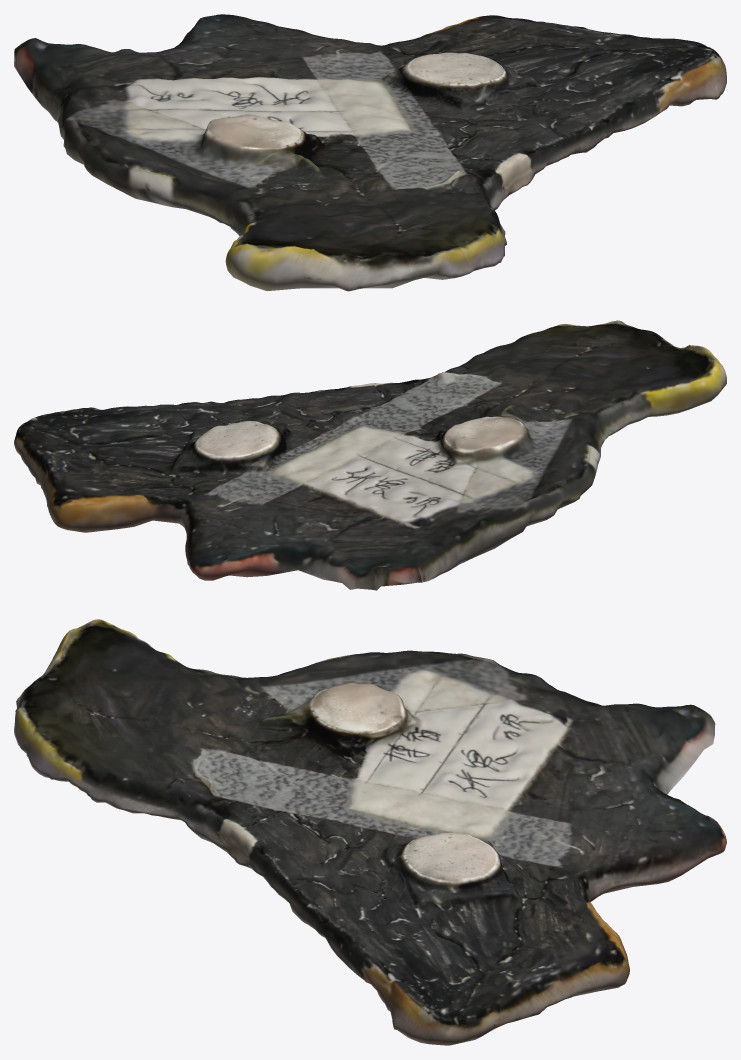
The picture shows the model from 3 angles, top to bottom: view 1: azimuth 30°, elevation 25°; view 2: azimuth 150°, elevation 25°; view 3: azimuth 270°, elevation 25°; orthographic projection. The views are drawn at different scales.
Bounding box in the file's own units: 0.7614 × 0.1429 × 0.7252.
Materials: 1 (1 with a texture image).
